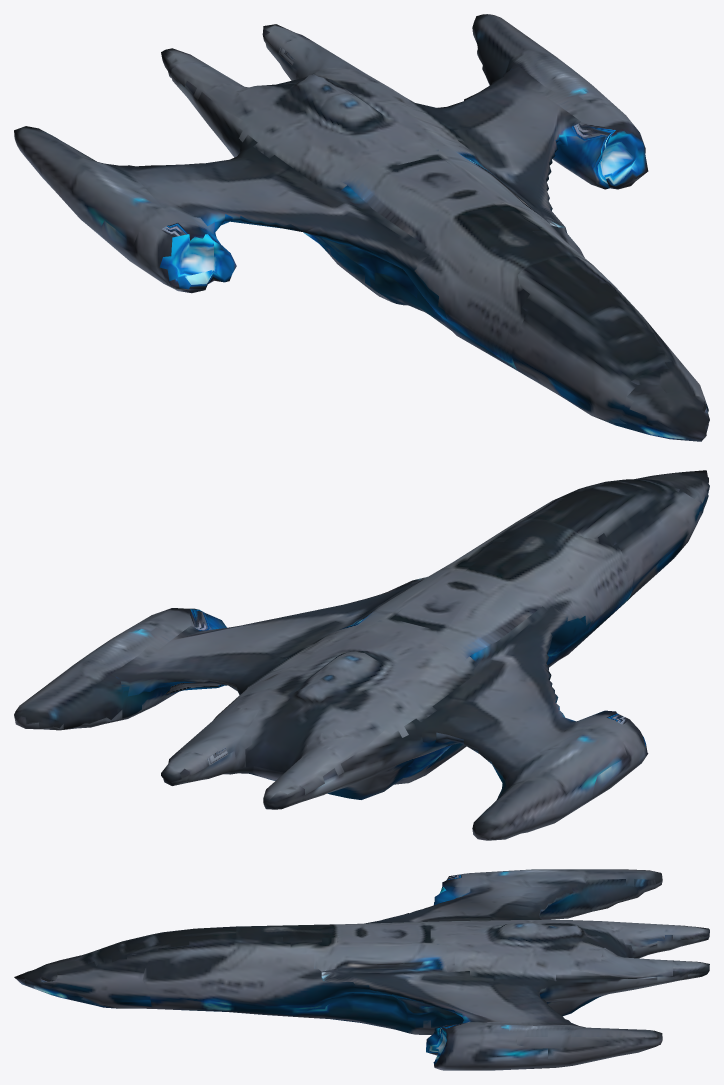
The model's file is alliance_courier_lod2.glb.
The picture shows the model from 3 angles, top to bottom: view 1: azimuth 30°, elevation 25°; view 2: azimuth 150°, elevation 25°; view 3: azimuth 270°, elevation 25°; orthographic projection. The views are drawn at different scales.
Parts seen in each view (by area): view 1: model; view 2: model; view 3: model.
Boxes of the visible parts, x1,y1,x2,y2 form: model: (14,14,709,441); model: (14,470,709,840); model: (14,869,709,1070).
Bounding box in the file's own units: 1.1 × 0.3018 × 1.87.
Materials: 1 (1 with a texture image).
